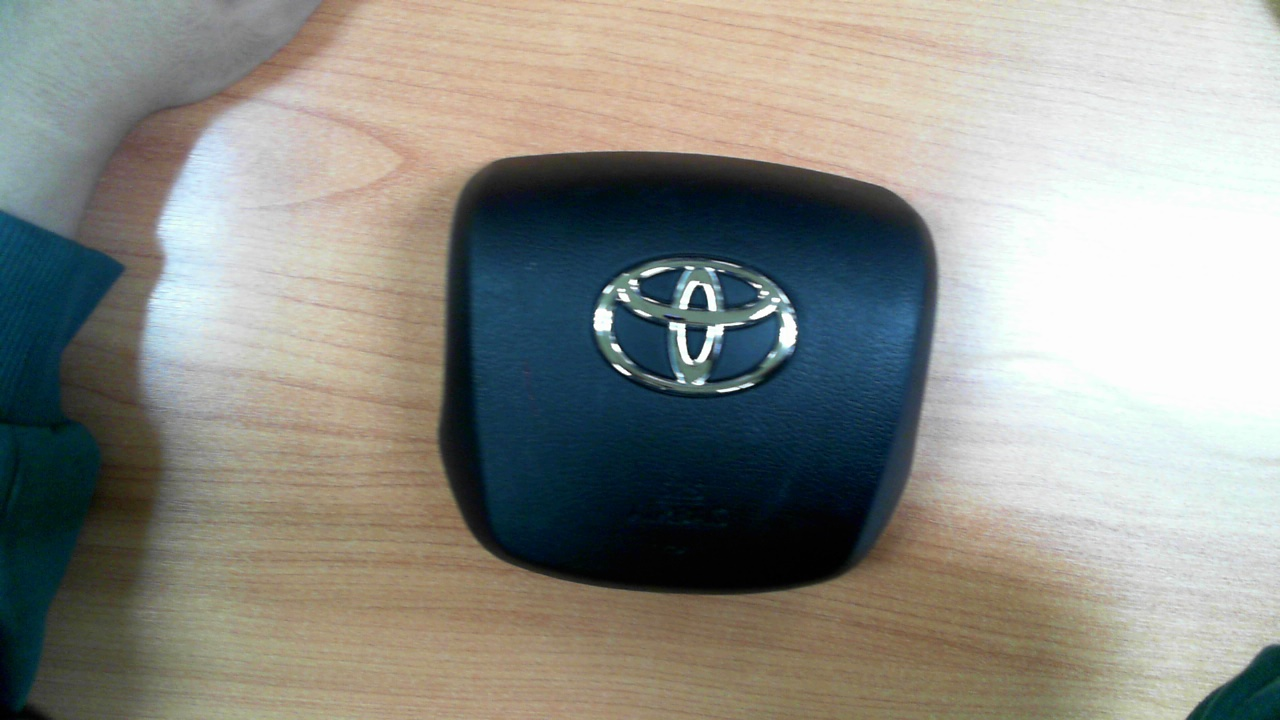Airbag: (436, 150, 939, 598)
Toyota: (593, 257, 798, 394)
